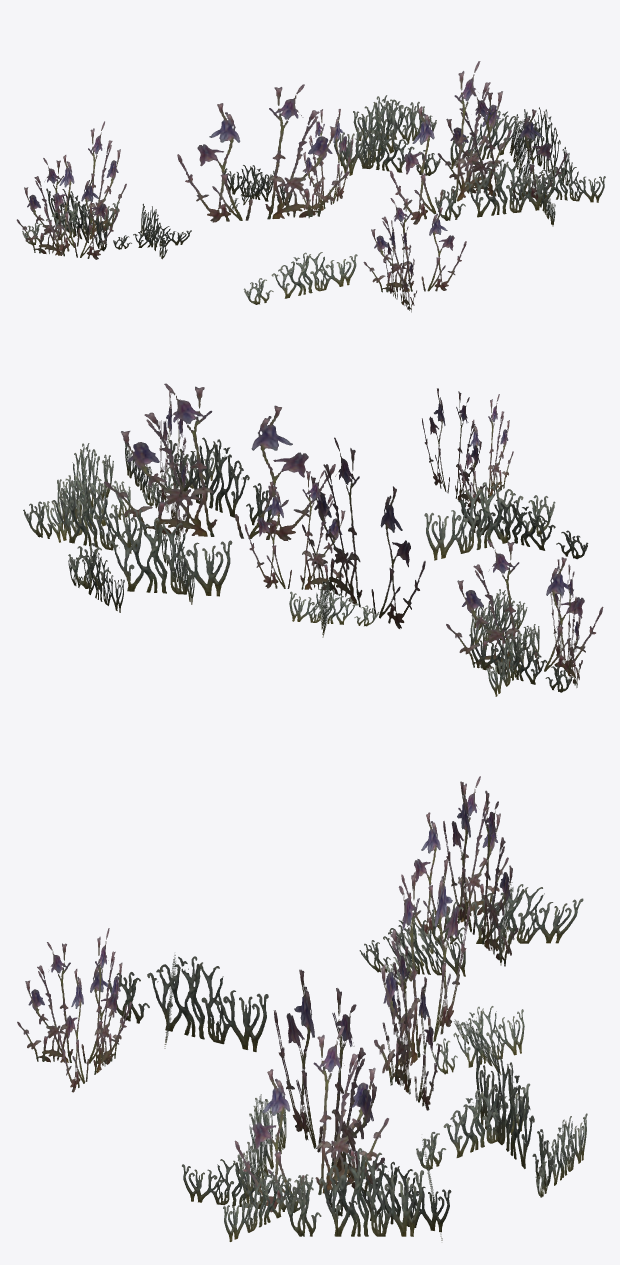
Rendered from DN_grass07a.FBX.
3 views of the same model, one above another, from view 1: azimuth 30°, elevation 25°; view 2: azimuth 150°, elevation 25°; view 3: azimuth 270°, elevation 25° (orthographic). The views are drawn at different scales.
Parts seen in each view (by area): view 1: DN_grass07a; view 2: DN_grass07a; view 3: DN_grass07a.
Boxes of the visible parts, <box> form: DN_grass07a: <box>16,61,605,312</box>; DN_grass07a: <box>23,383,603,696</box>; DN_grass07a: <box>17,776,587,1241</box>.
Size of the model in its own units: 218 by 59.11 by 150.
